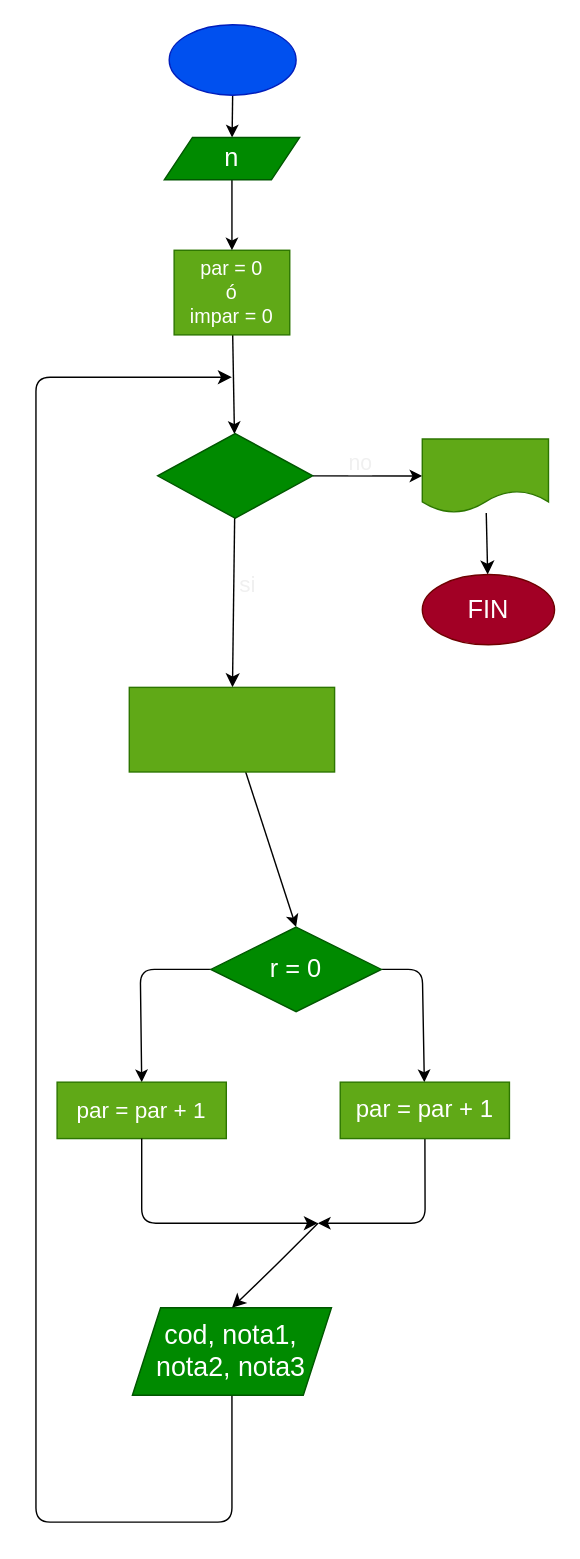
The diagram is 580 pixels wide and 1559 high, and some of its shapes have lost their labels. The centre of each missing label's shape, as x and y in pixels:
"d = [ n % 2 ] r = n - ( d * 2 )" goes at point 231,729.
"impar par" goes at point 484,475.
"INICIO" goes at point 232,59.
"n ≠ 0" goes at point 234,475.
